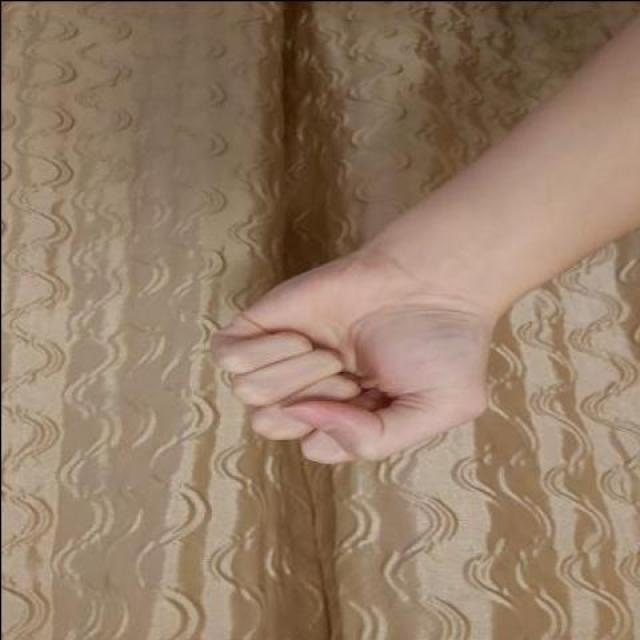Closed Hand: (202, 235, 522, 494)
